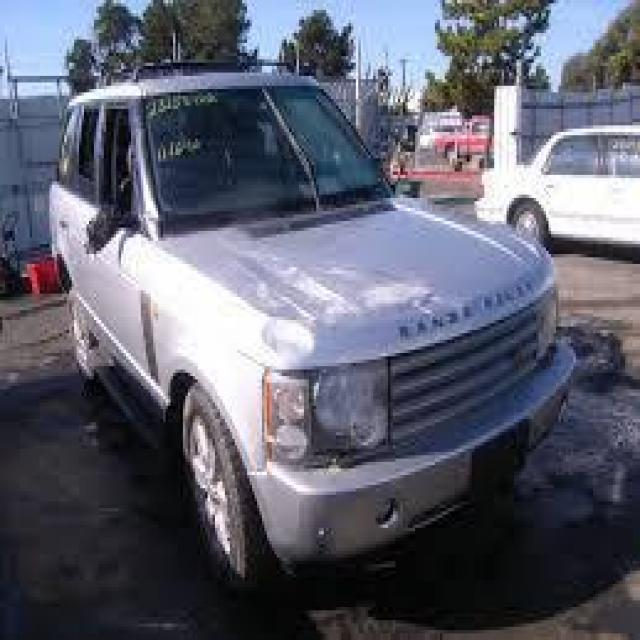damaged: (259, 317, 319, 363)
